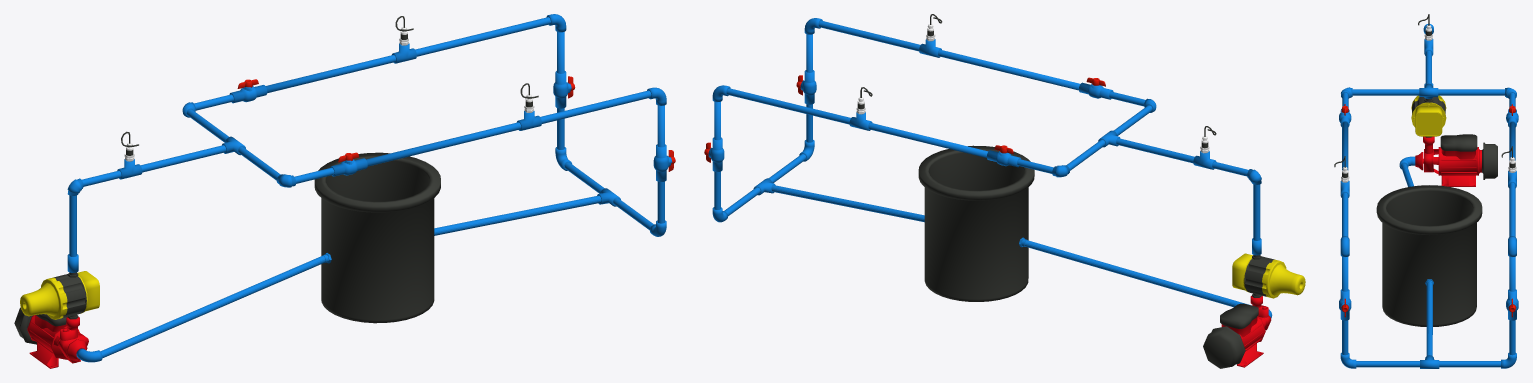
Rendered from jemas2.glb.
3 views of the same model, side by side, from view 1: azimuth 30°, elevation 25°; view 2: azimuth 150°, elevation 25°; view 3: azimuth 270°, elevation 25° (orthographic). The views are drawn at different scales.
Parts seen in each view (by area): view 1: Circle.004, triconnect.023, Circle, triconnect.043, triconnect.039, triconnect.008, triconnect.001, triconnect.002, triconnect.006, triconnect.013, triconnect.035, triconnect.016 (+3 smaller); view 2: Circle.004, Circle, triconnect.023, triconnect.043, triconnect.039, triconnect.008, triconnect.001, triconnect.002, triconnect.006, triconnect.013, triconnect.035, triconnect.016 (+3 smaller); view 3: Circle.004, Circle, triconnect.023, triconnect.013, triconnect.035, triconnect.039, triconnect.025, triconnect.027, triconnect.022, triconnect.001, triconnect.008, triconnect.006 (+11 smaller).
Part boxes in pixels (left/top/right/bottom): Circle.004: left=314, top=152, right=440, bottom=323; triconnect.023: left=20, top=271, right=99, bottom=319; Circle: left=14, top=307, right=88, bottom=368; triconnect.043: left=101, top=255, right=325, bottom=358; triconnect.039: left=434, top=195, right=601, bottom=235; triconnect.008: left=366, top=122, right=521, bottom=166; triconnect.001: left=415, top=17, right=550, bottom=56; triconnect.002: left=265, top=55, right=395, bottom=93; triconnect.006: left=540, top=90, right=651, bottom=123; triconnect.013: left=186, top=109, right=280, bottom=180; triconnect.035: left=564, top=162, right=653, bottom=230; triconnect.016: left=140, top=145, right=226, bottom=172; Circle.004: left=918, top=145, right=1034, bottom=301; Circle: left=1203, top=295, right=1271, bottom=368; triconnect.023: left=1232, top=253, right=1305, bottom=298; triconnect.043: left=1024, top=240, right=1249, bottom=307; triconnect.039: left=771, top=185, right=924, bottom=222; triconnect.008: left=938, top=49, right=1080, bottom=90; triconnect.001: left=726, top=88, right=850, bottom=124; triconnect.002: left=868, top=123, right=988, bottom=157; triconnect.006: left=818, top=20, right=920, bottom=51; triconnect.013: left=1066, top=105, right=1152, bottom=170; triconnect.035: left=724, top=154, right=806, bottom=216; triconnect.016: left=1116, top=138, right=1194, bottom=163; Circle.004: left=1376, top=185, right=1482, bottom=326; Circle: left=1415, top=134, right=1497, bottom=186; triconnect.023: left=1411, top=95, right=1446, bottom=137; triconnect.013: left=1352, top=89, right=1504, bottom=95; triconnect.035: left=1356, top=361, right=1500, bottom=367; triconnect.039: left=1426, top=282, right=1432, bottom=355; triconnect.025: left=1509, top=256, right=1515, bottom=355; triconnect.027: left=1342, top=256, right=1348, bottom=355; triconnect.022: left=1334, top=14, right=1516, bottom=182; triconnect.001: left=1509, top=182, right=1515, bottom=236; triconnect.008: left=1342, top=121, right=1348, bottom=170; triconnect.006: left=1342, top=192, right=1348, bottom=236.
Bounding box in the file's own units: 82.61 × 30.19 × 26.45.
